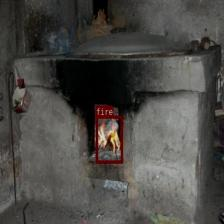fire: (96, 115, 122, 163)
